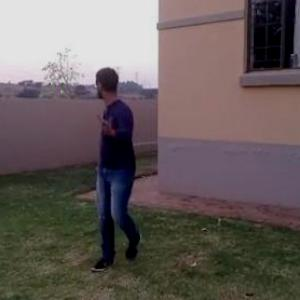takeoff-hand: (95, 105, 128, 140)
